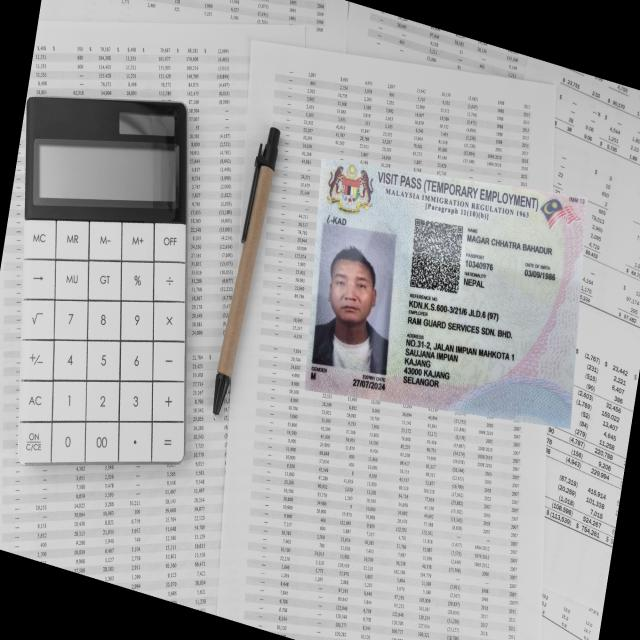ikad-temp: (302, 162, 589, 430)
